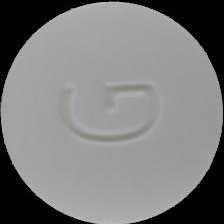42549-559: (0, 0, 224, 224)
